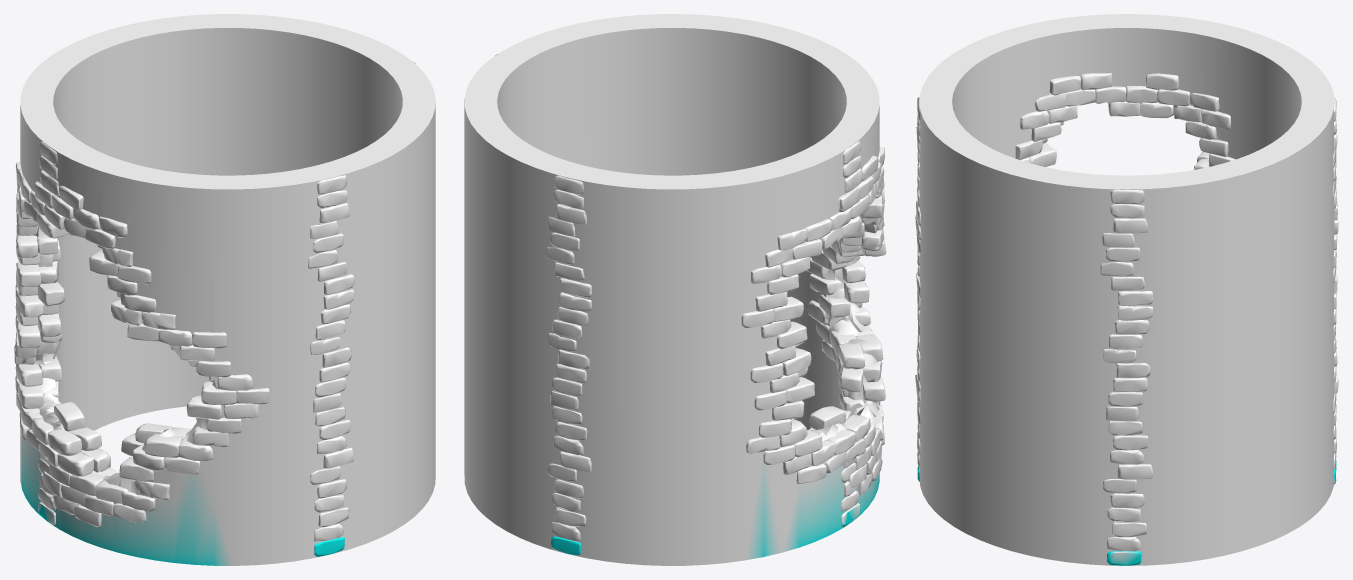
The model's file is SM_TowerRound_Head_8m_A_Damage_B.glb.
3 renders of one model, left to right at view 1: azimuth 30°, elevation 25°; view 2: azimuth 150°, elevation 25°; view 3: azimuth 270°, elevation 25°, orthographic.
Parts seen in each view (by area): view 1: SM_TowerRound_Head_8m_A_Damage_B_LOD0; view 2: SM_TowerRound_Head_8m_A_Damage_B_LOD0; view 3: SM_TowerRound_Head_8m_A_Damage_B_LOD0.
Boxes of the visible parts, left/top/right/bottom form: SM_TowerRound_Head_8m_A_Damage_B_LOD0: left=14, top=14, right=435, bottom=565; SM_TowerRound_Head_8m_A_Damage_B_LOD0: left=464, top=14, right=886, bottom=565; SM_TowerRound_Head_8m_A_Damage_B_LOD0: left=915, top=14, right=1338, bottom=565.
Bounding box in the file's own units: 8.17 × 8 × 8.15.
